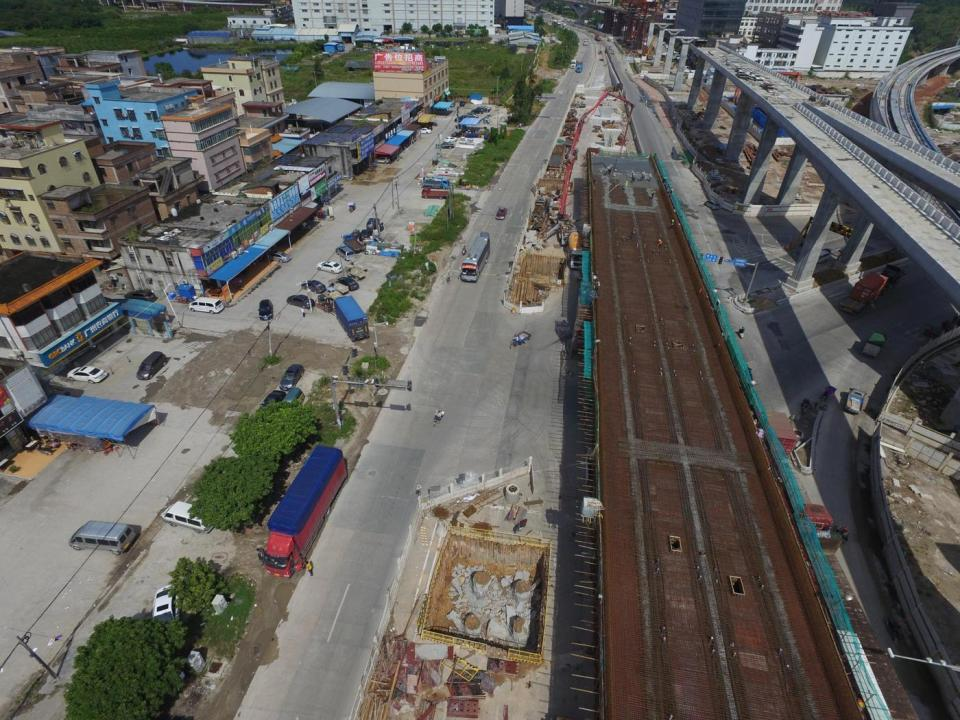bus: (461, 237, 490, 281), (365, 240, 404, 257)
car: (279, 364, 305, 390), (258, 391, 284, 416), (68, 366, 107, 382), (123, 288, 157, 302), (286, 295, 314, 308), (337, 277, 359, 292), (266, 251, 292, 263), (258, 298, 272, 320), (301, 281, 326, 292), (496, 208, 507, 219), (376, 156, 390, 164), (418, 127, 432, 134), (440, 142, 456, 148), (466, 112, 479, 119), (444, 136, 457, 142), (477, 106, 489, 112), (480, 105, 492, 111), (455, 116, 467, 122), (471, 108, 483, 114), (451, 132, 462, 137), (459, 115, 469, 120), (460, 101, 466, 106), (450, 101, 455, 107)
truck: (262, 443, 346, 577), (328, 290, 370, 344), (840, 272, 888, 314), (756, 410, 796, 459), (845, 388, 867, 418), (864, 331, 886, 360), (880, 264, 904, 289), (344, 234, 364, 254), (420, 187, 450, 200), (328, 278, 347, 296), (344, 264, 364, 280), (421, 177, 450, 188), (347, 261, 365, 273), (577, 62, 583, 72), (570, 60, 577, 68), (594, 34, 601, 42), (584, 38, 588, 46)
van: (68, 520, 134, 552), (162, 500, 214, 536), (153, 584, 184, 639), (135, 351, 167, 380), (188, 298, 223, 314), (281, 388, 303, 412), (316, 261, 342, 274), (336, 246, 354, 262), (813, 250, 828, 266), (704, 200, 721, 210), (360, 230, 375, 240), (367, 218, 380, 229), (609, 46, 612, 50)
